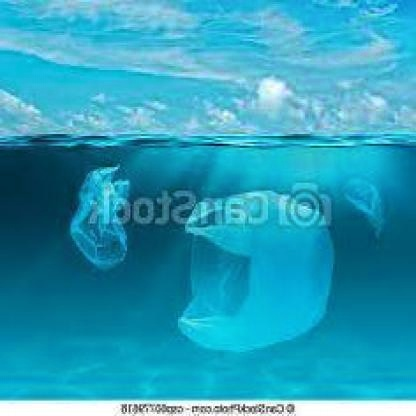pbag: (169, 184, 344, 360), (63, 159, 141, 278), (338, 167, 386, 245)
